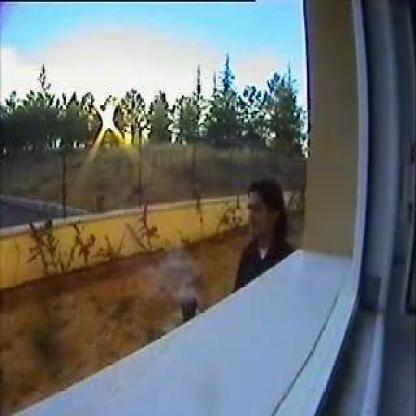-: (160, 262, 194, 302)
